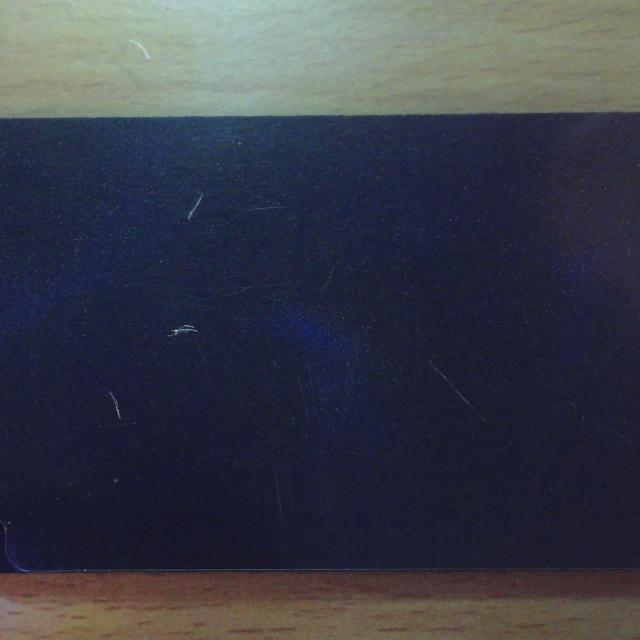defect: (431, 362, 489, 421), (102, 390, 125, 424), (185, 196, 204, 220), (168, 324, 200, 338)
